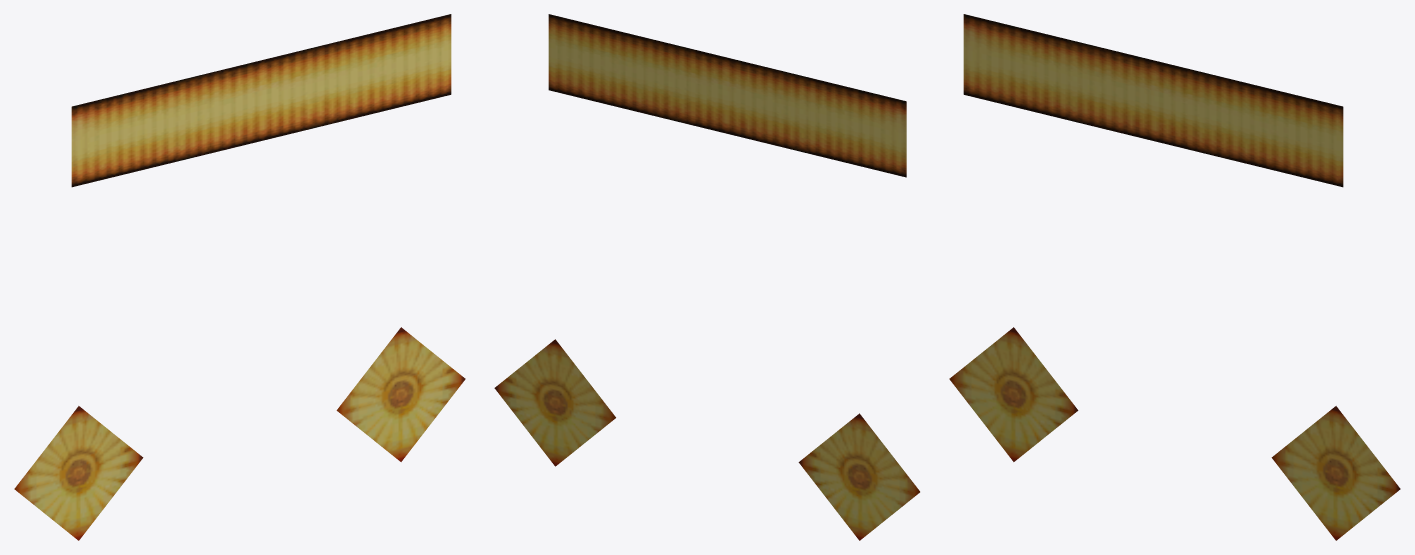
File: kse_firespray_engine_s01_on_l3.fbx
The picture shows the model from 3 angles, left to right: view 1: azimuth 30°, elevation 25°; view 2: azimuth 150°, elevation 25°; view 3: azimuth 330°, elevation 25°; orthographic projection. The views are drawn at different scales.
Parts seen in each view (by area): view 1: mesh_node; view 2: mesh_node; view 3: mesh_node.
Part boxes in pixels (x1=…): mesh_node: x1=14, y1=14, x2=465, y2=540; mesh_node: x1=494, y1=14, x2=919, y2=540; mesh_node: x1=949, y1=14, x2=1400, y2=540.
Bounding box in the file's own units: 5.88 × 5.69 × 0.4831.
Materials: 1 (1 with a texture image).
